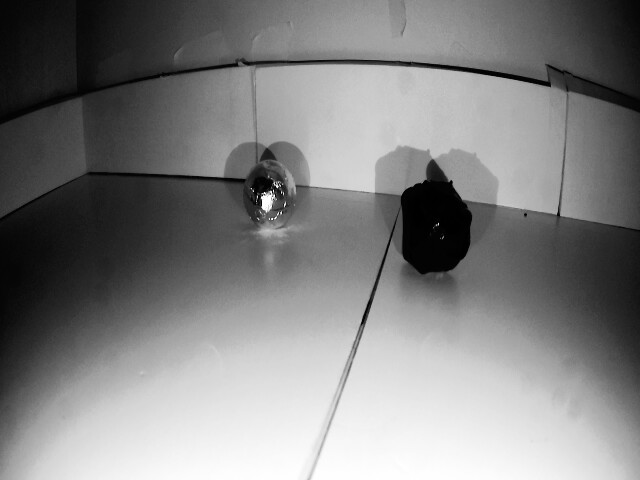black: (241, 162, 302, 233)
silver: (393, 169, 473, 281)
